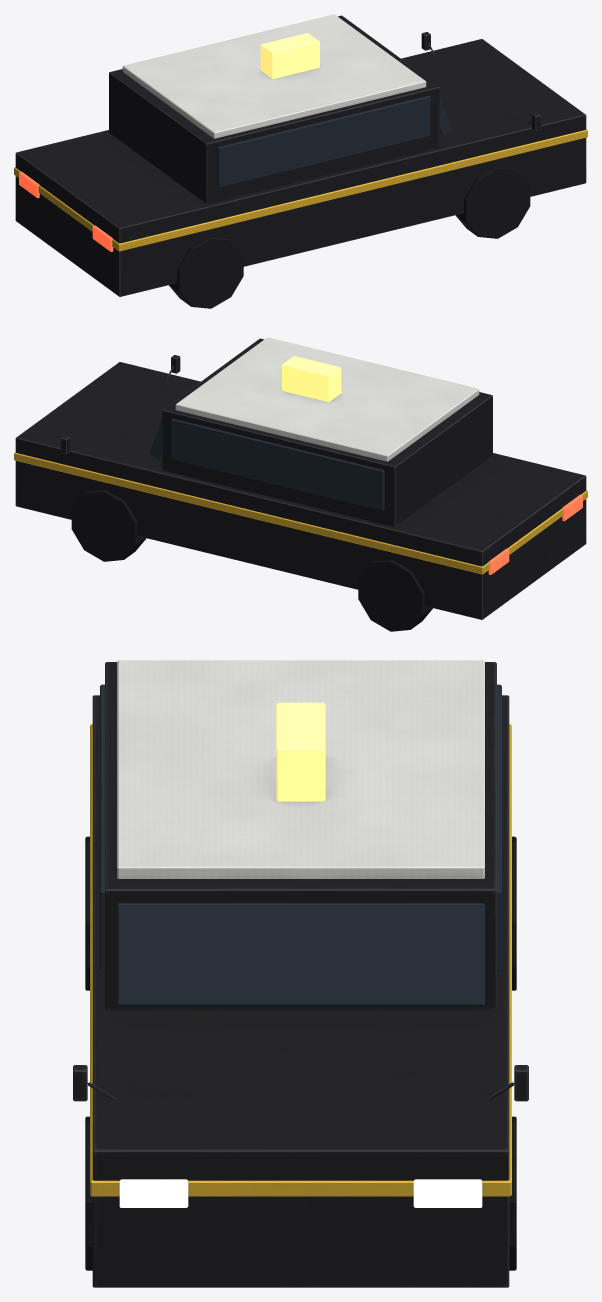
Rendered from taxi_tex.glb.
3 views of the same model, one above another, from view 1: azimuth 30°, elevation 25°; view 2: azimuth 150°, elevation 25°; view 3: azimuth 270°, elevation 25° (orthographic). The views are drawn at different scales.
Visible parts, largest first — view 1: taxi; view 2: taxi; view 3: taxi.
Part boxes in pixels (left/top/right/bottom): taxi: left=14, top=14, right=587, bottom=308; taxi: left=14, top=337, right=587, bottom=631; taxi: left=73, top=660, right=528, bottom=1287.
Size of the model in its own units: 4.45 by 1.75 by 1.86.
Materials: 8 (4 with a texture image).
